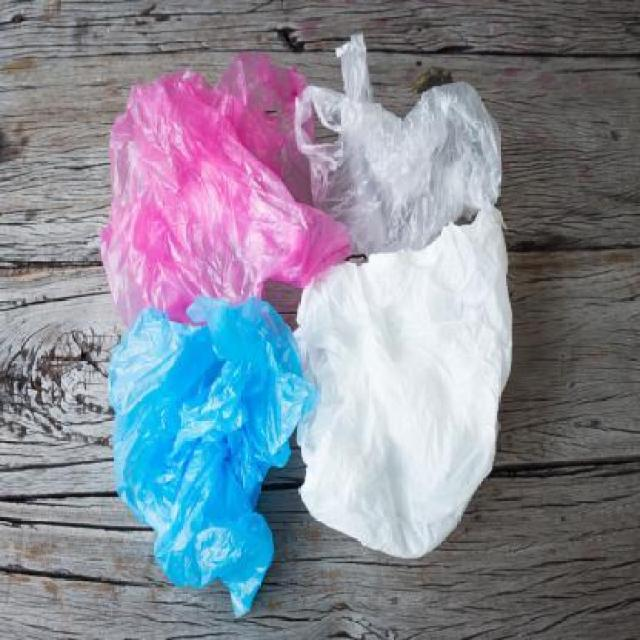plastic bag: (294, 242, 534, 579), (106, 309, 293, 608), (94, 53, 325, 294), (295, 49, 533, 233)
